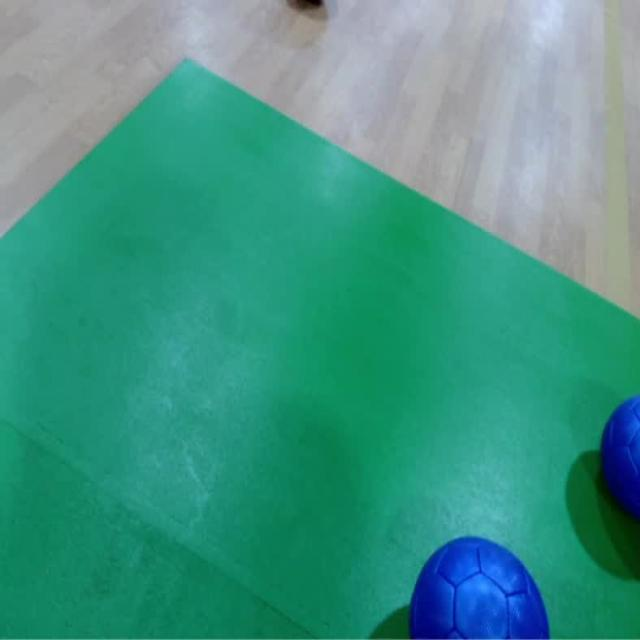blue_ball: (406, 532, 554, 640)
purple_ball: (602, 394, 640, 525)
